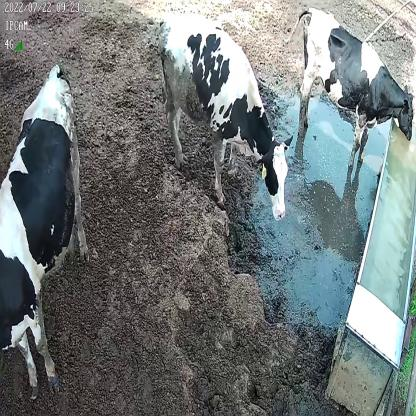cow: (1, 60, 88, 393), (160, 14, 293, 224), (285, 6, 415, 170)
